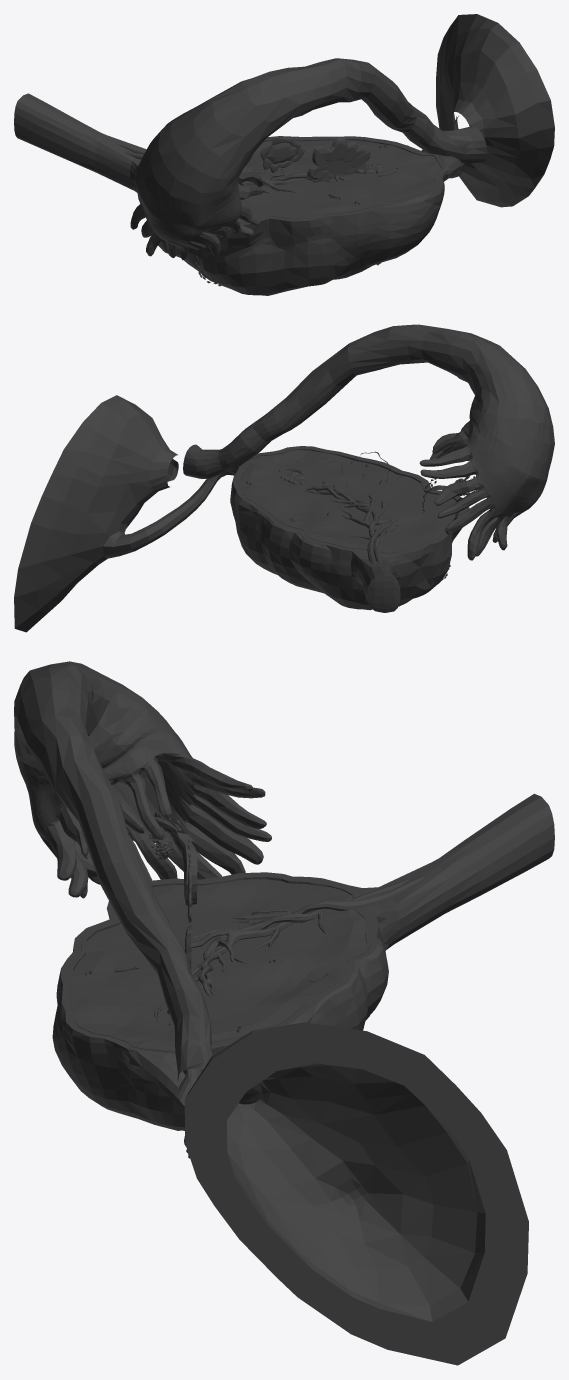
File: sharedassets83.glb
The picture shows the model from 3 angles, top to bottom: view 1: azimuth 30°, elevation 25°; view 2: azimuth 150°, elevation 25°; view 3: azimuth 270°, elevation 25°; orthographic projection. The views are drawn at different scales.
Parts seen in each view (by area): view 1: 0025_Uterus_ovary_305004, 0032_Germinal epithelium_ovary_305017, 0015_Ampulla_ovary_305014, 0027_Cortex_ovary_305006, 0004_Infundibulum_ovary_305013, 0000_Suspensory ligament of ovary _infundibul, 0001_Isthmus_ovary_305015, 0040_Fimbriae_ovary_305012, 0028__Corpus luteum_outside_ovary_304974_001, 0039_Medulla_ovary_305016, 0007_Tunica albuginea_ovary_305003, 0036__Developing Corpus luteum_outside_ovary_ (+3 smaller); view 2: 0025_Uterus_ovary_305004, 0027_Cortex_ovary_305006, 0032_Germinal epithelium_ovary_305017, 0015_Ampulla_ovary_305014, 0004_Infundibulum_ovary_305013, 0040_Fimbriae_ovary_305012, 0001_Isthmus_ovary_305015, 0000_Suspensory ligament of ovary _infundibul, 0041_Ovarian ligament _utero-ovarian ligament, 0039_Medulla_ovary_305016, 0007_Tunica albuginea_ovary_305003, 0042_Ovarian vein_ovary_305007 (+1 smaller); view 3: 0025_Uterus_ovary_305004, 0027_Cortex_ovary_305006, 0015_Ampulla_ovary_305014, 0032_Germinal epithelium_ovary_305017, 0040_Fimbriae_ovary_305012, 0000_Suspensory ligament of ovary _infundibul, 0001_Isthmus_ovary_305015, 0004_Infundibulum_ovary_305013, 0039_Medulla_ovary_305016, 0042_Ovarian vein_ovary_305007, 0007_Tunica albuginea_ovary_305003, 0021_Ovarian artery_ovary_305008 (+1 smaller).
Part boxes in pixels (bbox=[...]): 0025_Uterus_ovary_305004: bbox=[436, 14, 554, 207]; 0032_Germinal epithelium_ovary_305017: bbox=[137, 136, 449, 295]; 0015_Ampulla_ovary_305014: bbox=[170, 58, 398, 178]; 0027_Cortex_ovary_305006: bbox=[237, 140, 441, 221]; 0004_Infundibulum_ovary_305013: bbox=[135, 116, 242, 239]; 0000_Suspensory ligament of ovary _infundibul: bbox=[14, 93, 146, 192]; 0001_Isthmus_ovary_305015: bbox=[375, 86, 487, 163]; 0040_Fimbriae_ovary_305012: bbox=[130, 166, 263, 260]; 0028__Corpus luteum_outside_ovary_304974_001: bbox=[307, 137, 370, 182]; 0039_Medulla_ovary_305016: bbox=[238, 160, 356, 196]; 0007_Tunica albuginea_ovary_305003: bbox=[239, 138, 444, 223]; 0036__Developing Corpus luteum_outside_ovary_: bbox=[260, 136, 304, 172]; 0025_Uterus_ovary_305004: bbox=[14, 395, 178, 632]; 0027_Cortex_ovary_305006: bbox=[240, 450, 456, 551]; 0032_Germinal epithelium_ovary_305017: bbox=[230, 446, 469, 610]; 0015_Ampulla_ovary_305014: bbox=[312, 324, 548, 407]; 0004_Infundibulum_ovary_305013: bbox=[462, 402, 554, 509]; 0040_Fimbriae_ovary_305012: bbox=[419, 428, 529, 560]; 0001_Isthmus_ovary_305015: bbox=[183, 371, 325, 478]; 0000_Suspensory ligament of ovary _infundibul: bbox=[351, 551, 401, 612]; 0041_Ovarian ligament _utero-ovarian ligament: bbox=[114, 469, 234, 555]; 0039_Medulla_ovary_305016: bbox=[295, 478, 398, 539]; 0007_Tunica albuginea_ovary_305003: bbox=[238, 447, 464, 553]; 0042_Ovarian vein_ovary_305007: bbox=[246, 463, 398, 564]; 0025_Uterus_ovary_305004: bbox=[184, 1022, 528, 1365]; 0027_Cortex_ovary_305006: bbox=[73, 879, 366, 1050]; 0015_Ampulla_ovary_305014: bbox=[14, 661, 146, 882]; 0032_Germinal epithelium_ovary_305017: bbox=[52, 872, 388, 1130]; 0040_Fimbriae_ovary_305012: bbox=[38, 751, 271, 898]; 0000_Suspensory ligament of ovary _infundibul: bbox=[350, 793, 554, 950]; 0001_Isthmus_ovary_305015: bbox=[99, 861, 213, 1105]; 0004_Infundibulum_ovary_305013: bbox=[15, 686, 190, 831]; 0039_Medulla_ovary_305016: bbox=[158, 908, 313, 1001]; 0042_Ovarian vein_ovary_305007: bbox=[85, 876, 424, 1032]; 0007_Tunica albuginea_ovary_305003: bbox=[68, 875, 370, 1052]; 0021_Ovarian artery_ovary_305008: bbox=[89, 879, 408, 1028].
Bounding box in the file's own units: 0.328 × 0.2168 × 0.2368.
1 material, 1 textured.
